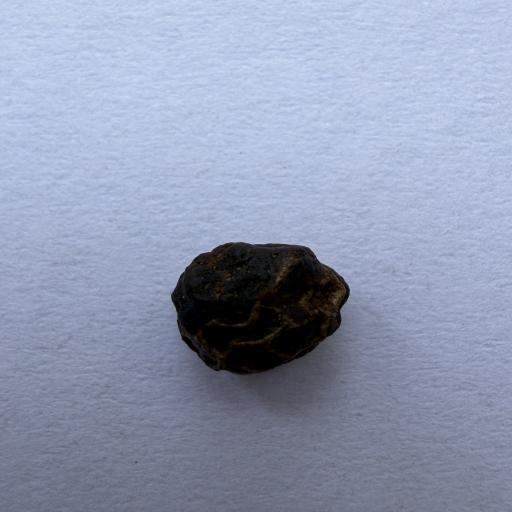Black_pepper: (144, 226, 395, 380)
